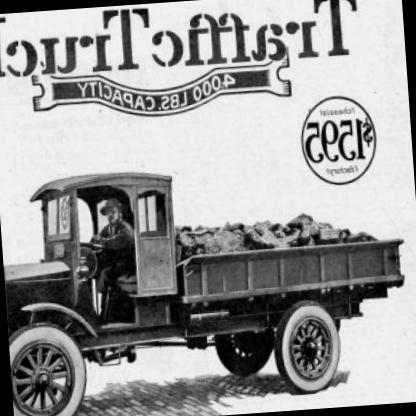truck: (0, 151, 413, 415)
